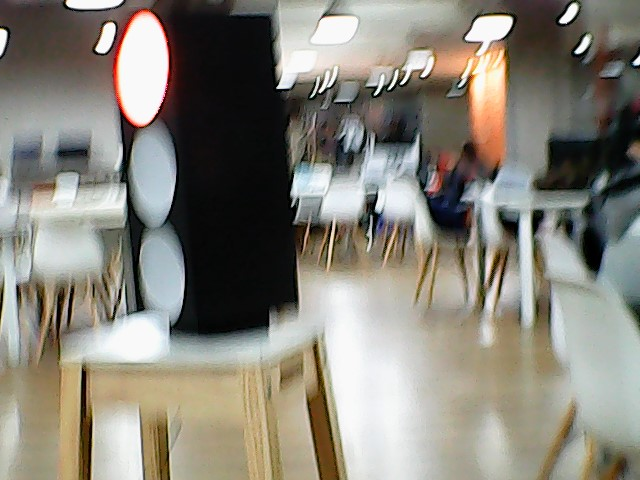vermelho: (104, 14, 307, 322)
